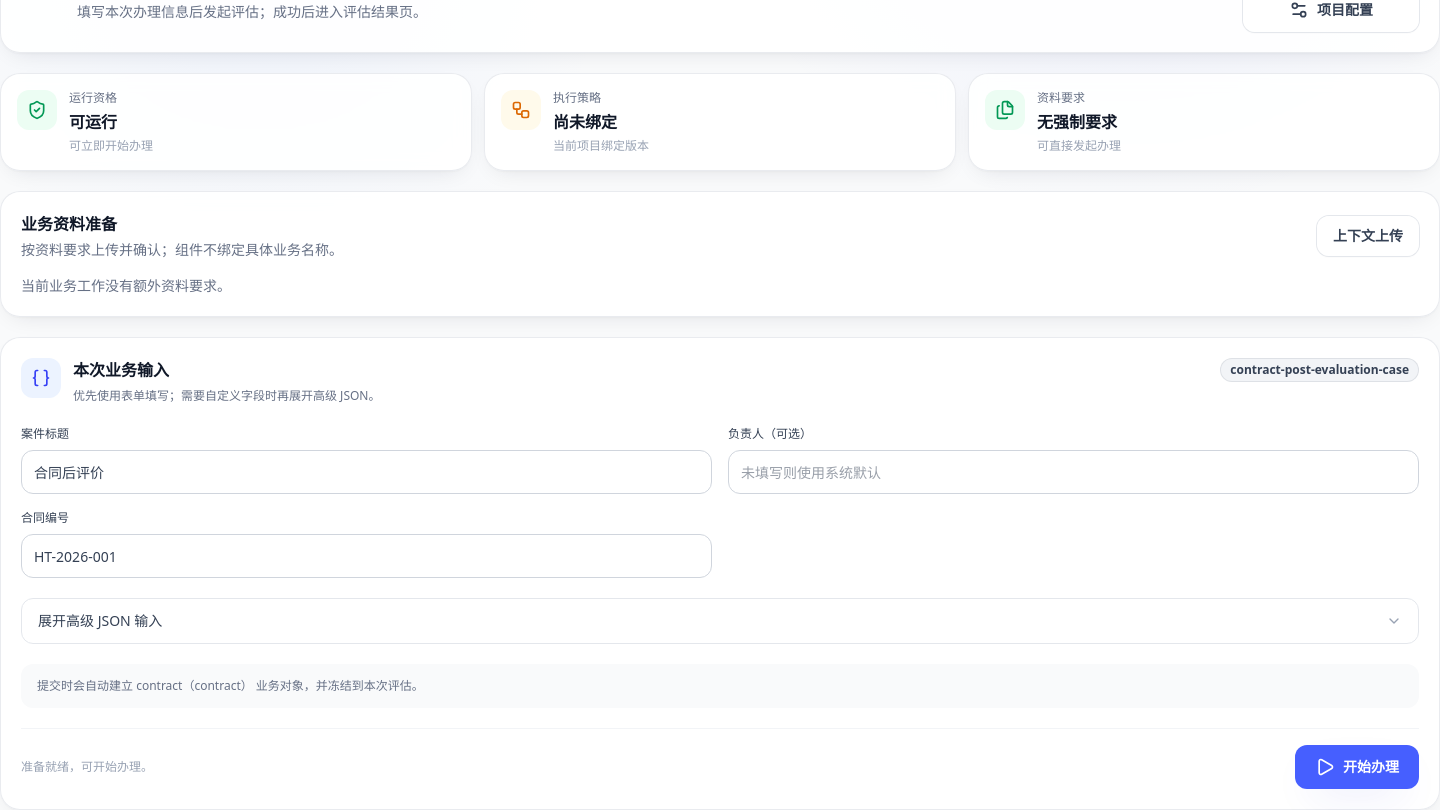
business work workbench › shows a clear message when document selection is required
This screenshot has width=1440, height=810.
(page scrolled)
Click the button "开始办理" at (1357, 767), box [1295,745,1419,789]
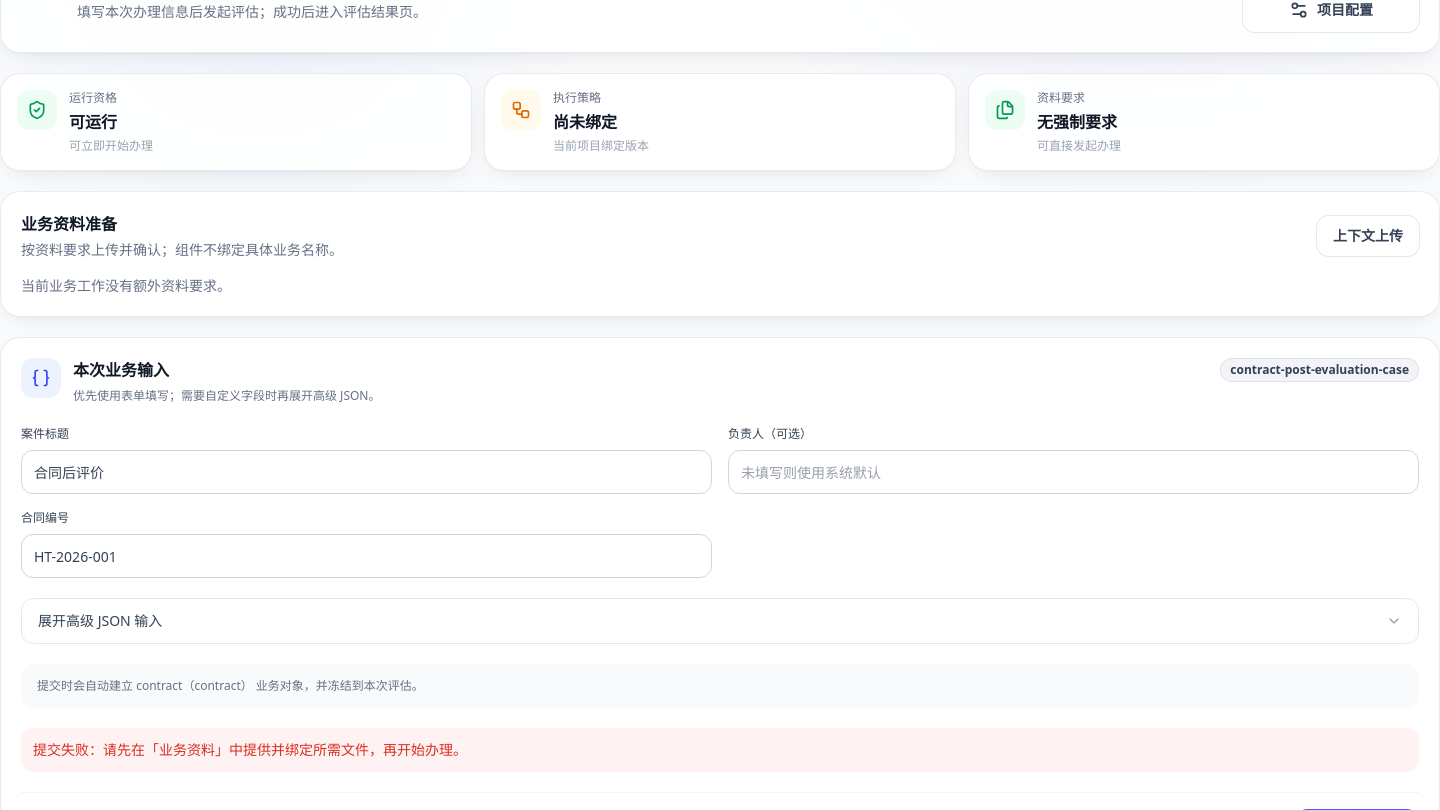
expect the message reads "提交失败：请先在「业务资料」中提供并绑定所需文件，再开始办理。": met, box [21,728,1419,772]
